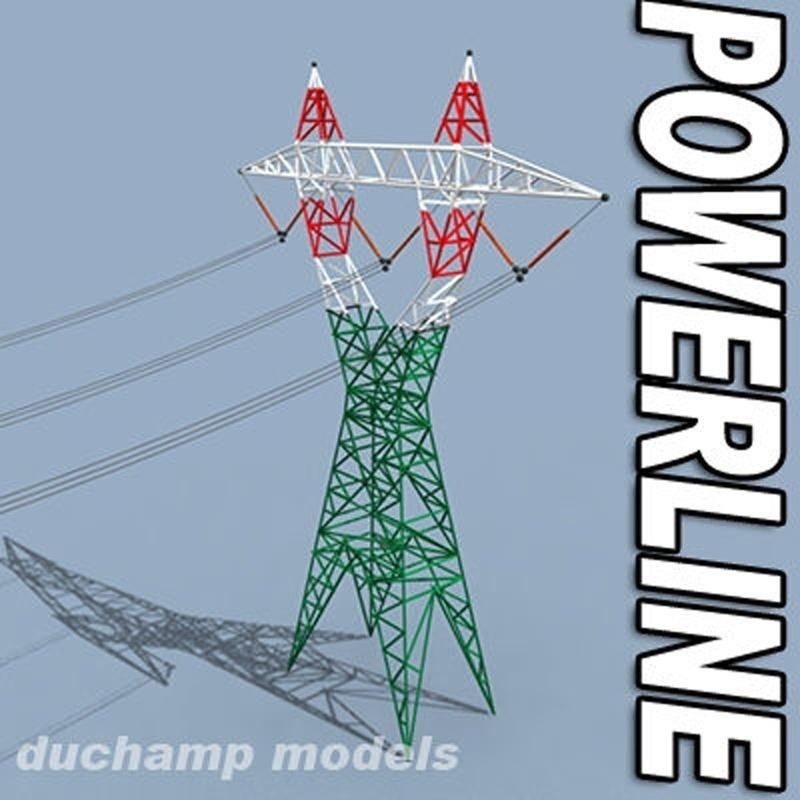power_tower: (248, 60, 564, 727)
